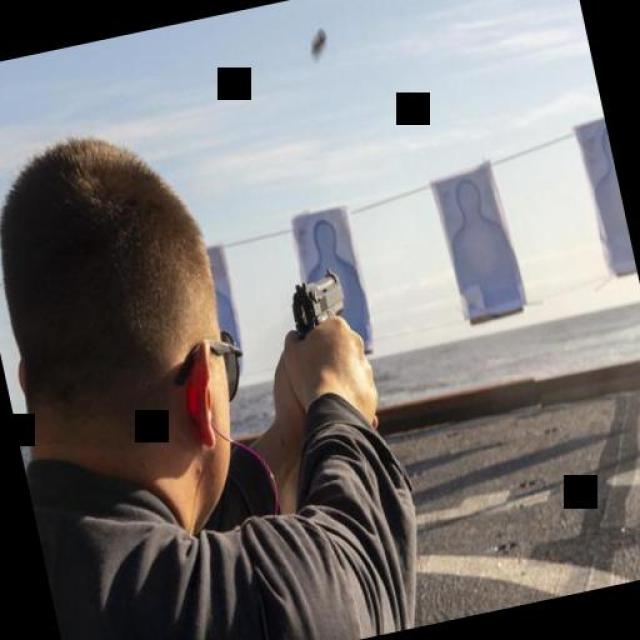gun: (276, 259, 355, 339)
